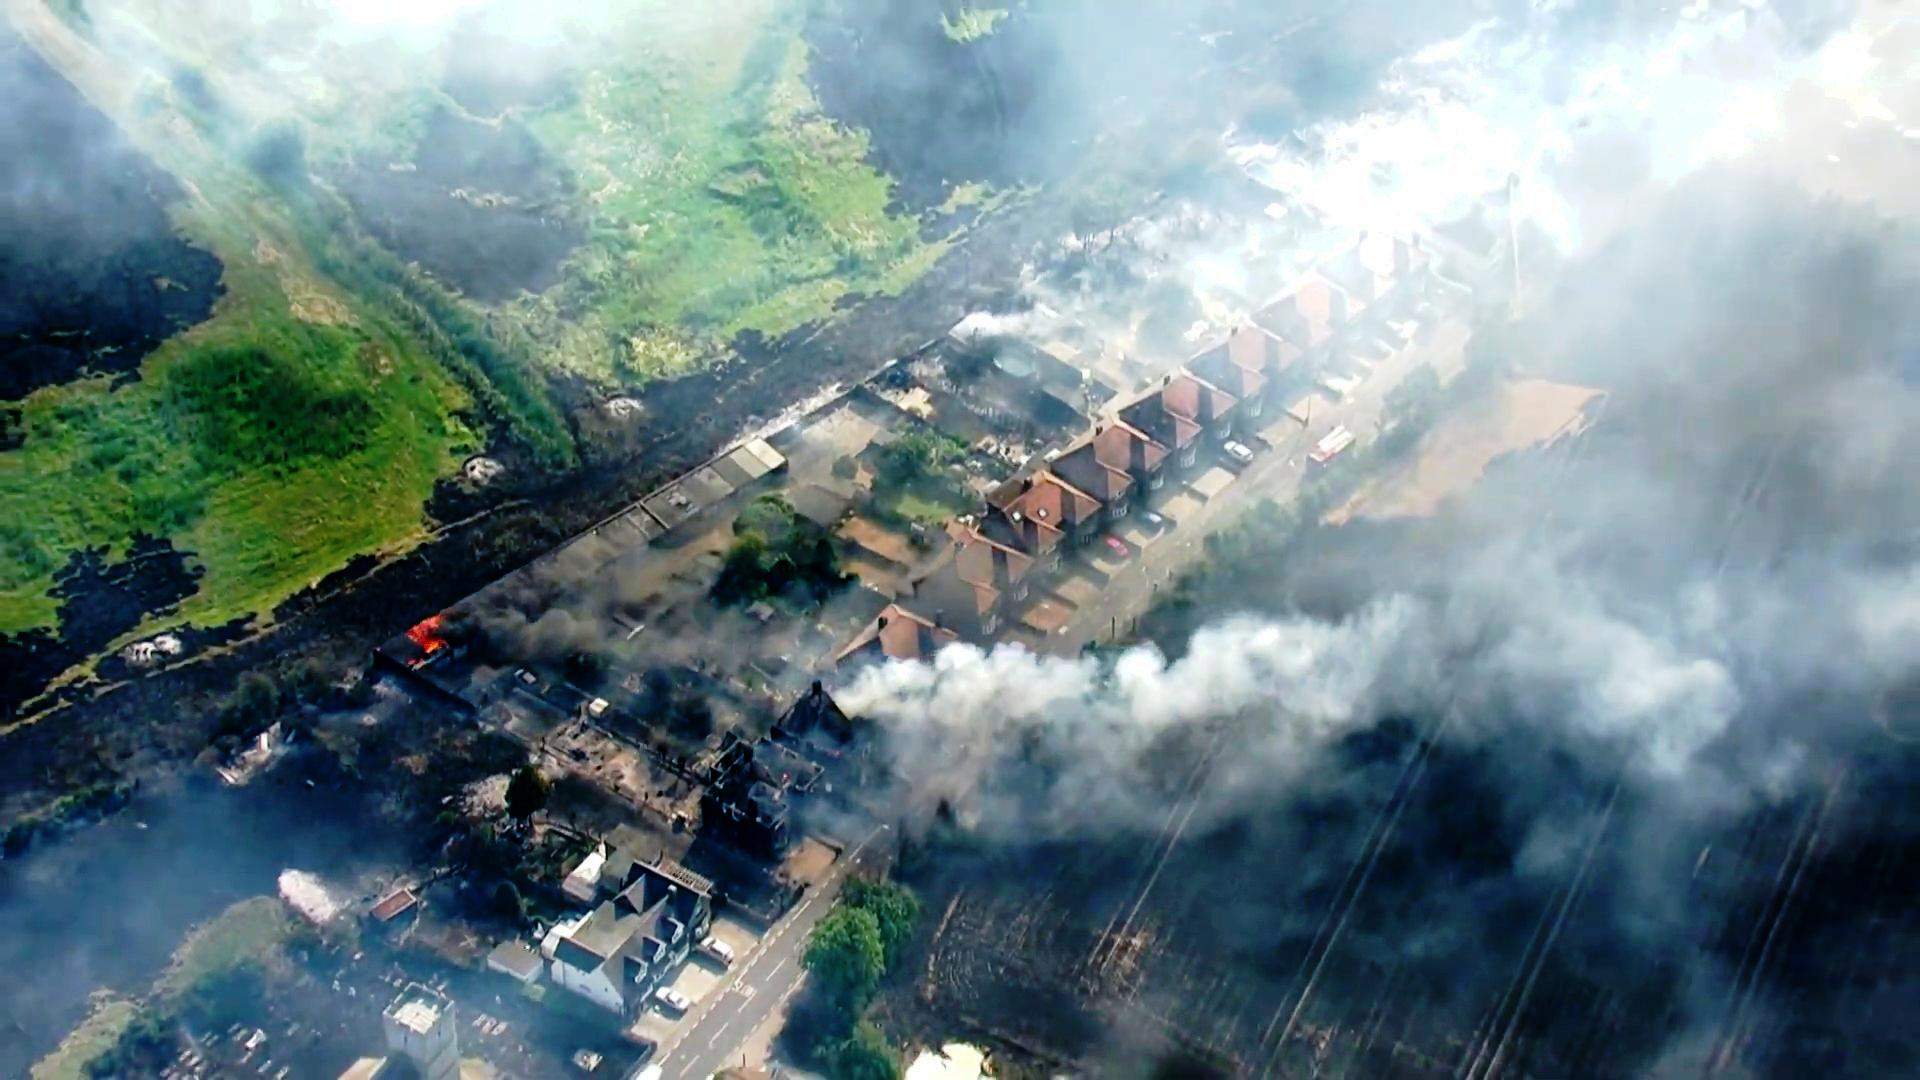smoke: (913, 646, 1182, 804)
